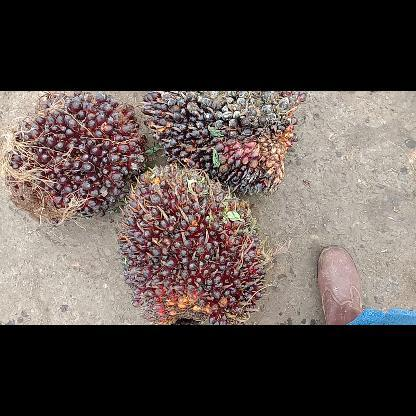Kurang masak: (120, 162, 270, 324), (1, 94, 145, 218)
TBS mentah: (140, 91, 294, 199)
